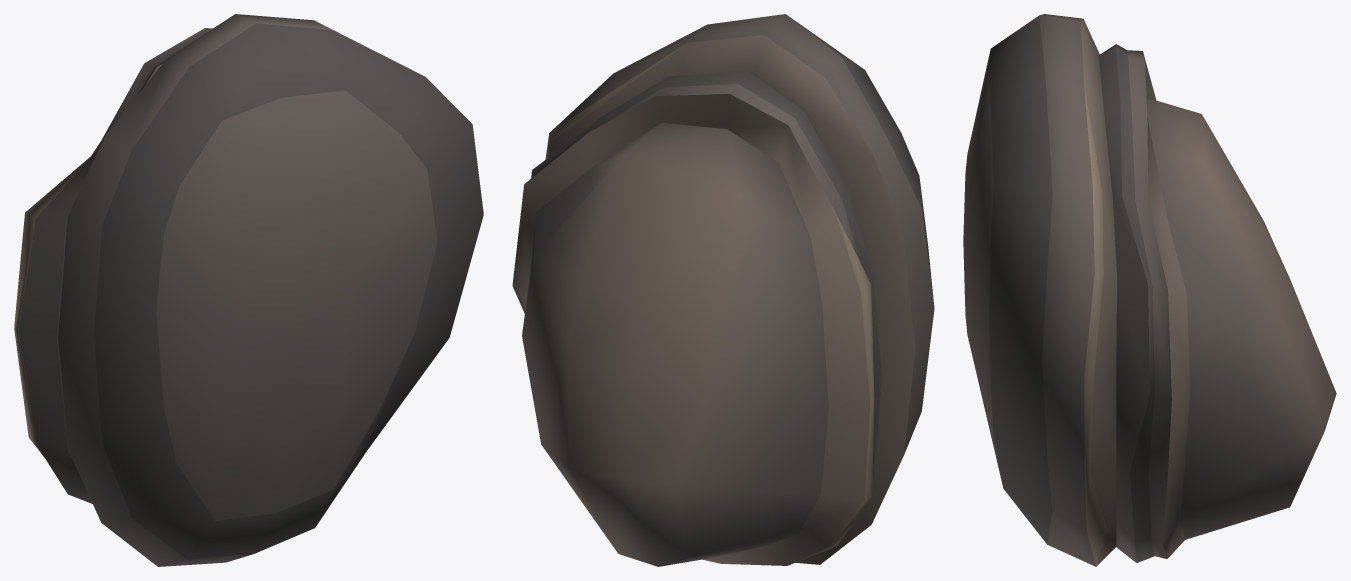
Rendered from LayeredRock.003.glb.
3 renders of one model, left to right at view 1: azimuth 30°, elevation 25°; view 2: azimuth 150°, elevation 25°; view 3: azimuth 270°, elevation 25°, orthographic. The views are drawn at different scales.
Visible parts, largest first — view 1: LayeredRock.003; view 2: LayeredRock.003; view 3: LayeredRock.003.
Boxes of the visible parts, bbox=[...] form: LayeredRock.003: bbox=[14, 14, 483, 566]; LayeredRock.003: bbox=[512, 14, 934, 566]; LayeredRock.003: bbox=[963, 14, 1336, 566].
Size of the model in its own units: 802 by 1047 by 661.
